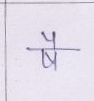ai_matra: (42, 31, 59, 47)
